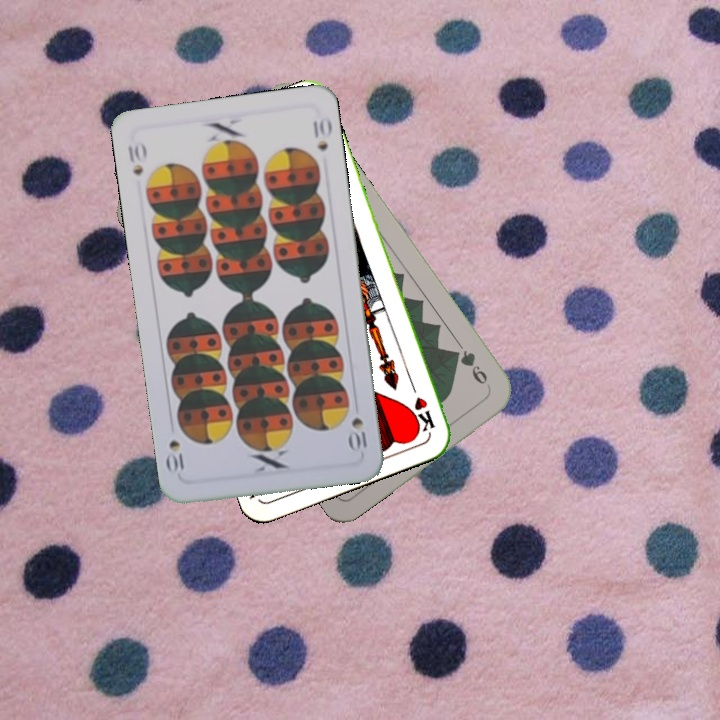G9: (448, 346, 493, 392)
HK: (405, 376, 438, 435)
S10: (123, 138, 149, 178), (347, 414, 370, 452)
